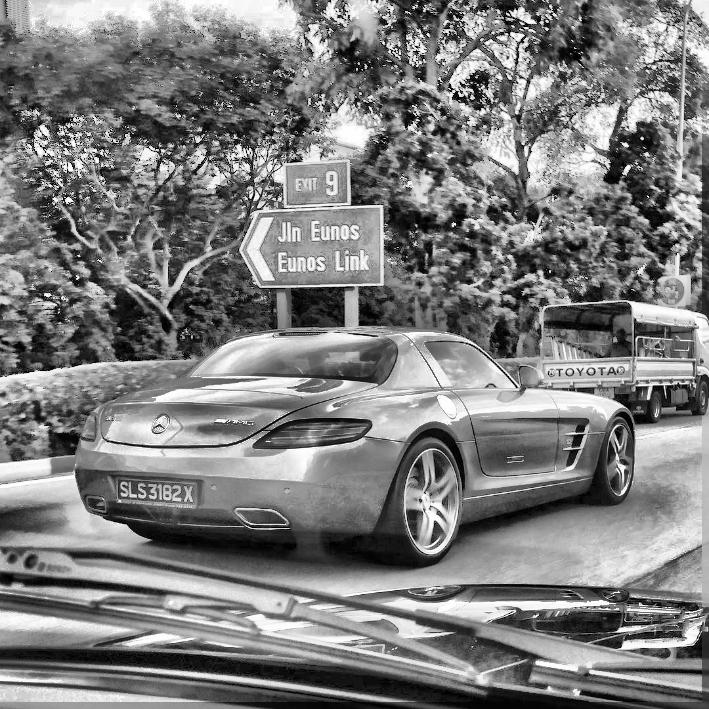License-Plates: (118, 480, 195, 505), (595, 388, 614, 399)
